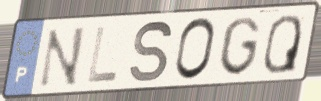G: (217, 15, 262, 78)
L: (85, 25, 120, 86)
N: (36, 24, 88, 91)
O: (172, 16, 218, 83)
Q: (261, 12, 304, 76)
S: (128, 19, 175, 85)
